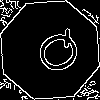Q: (25, 25, 86, 83)
